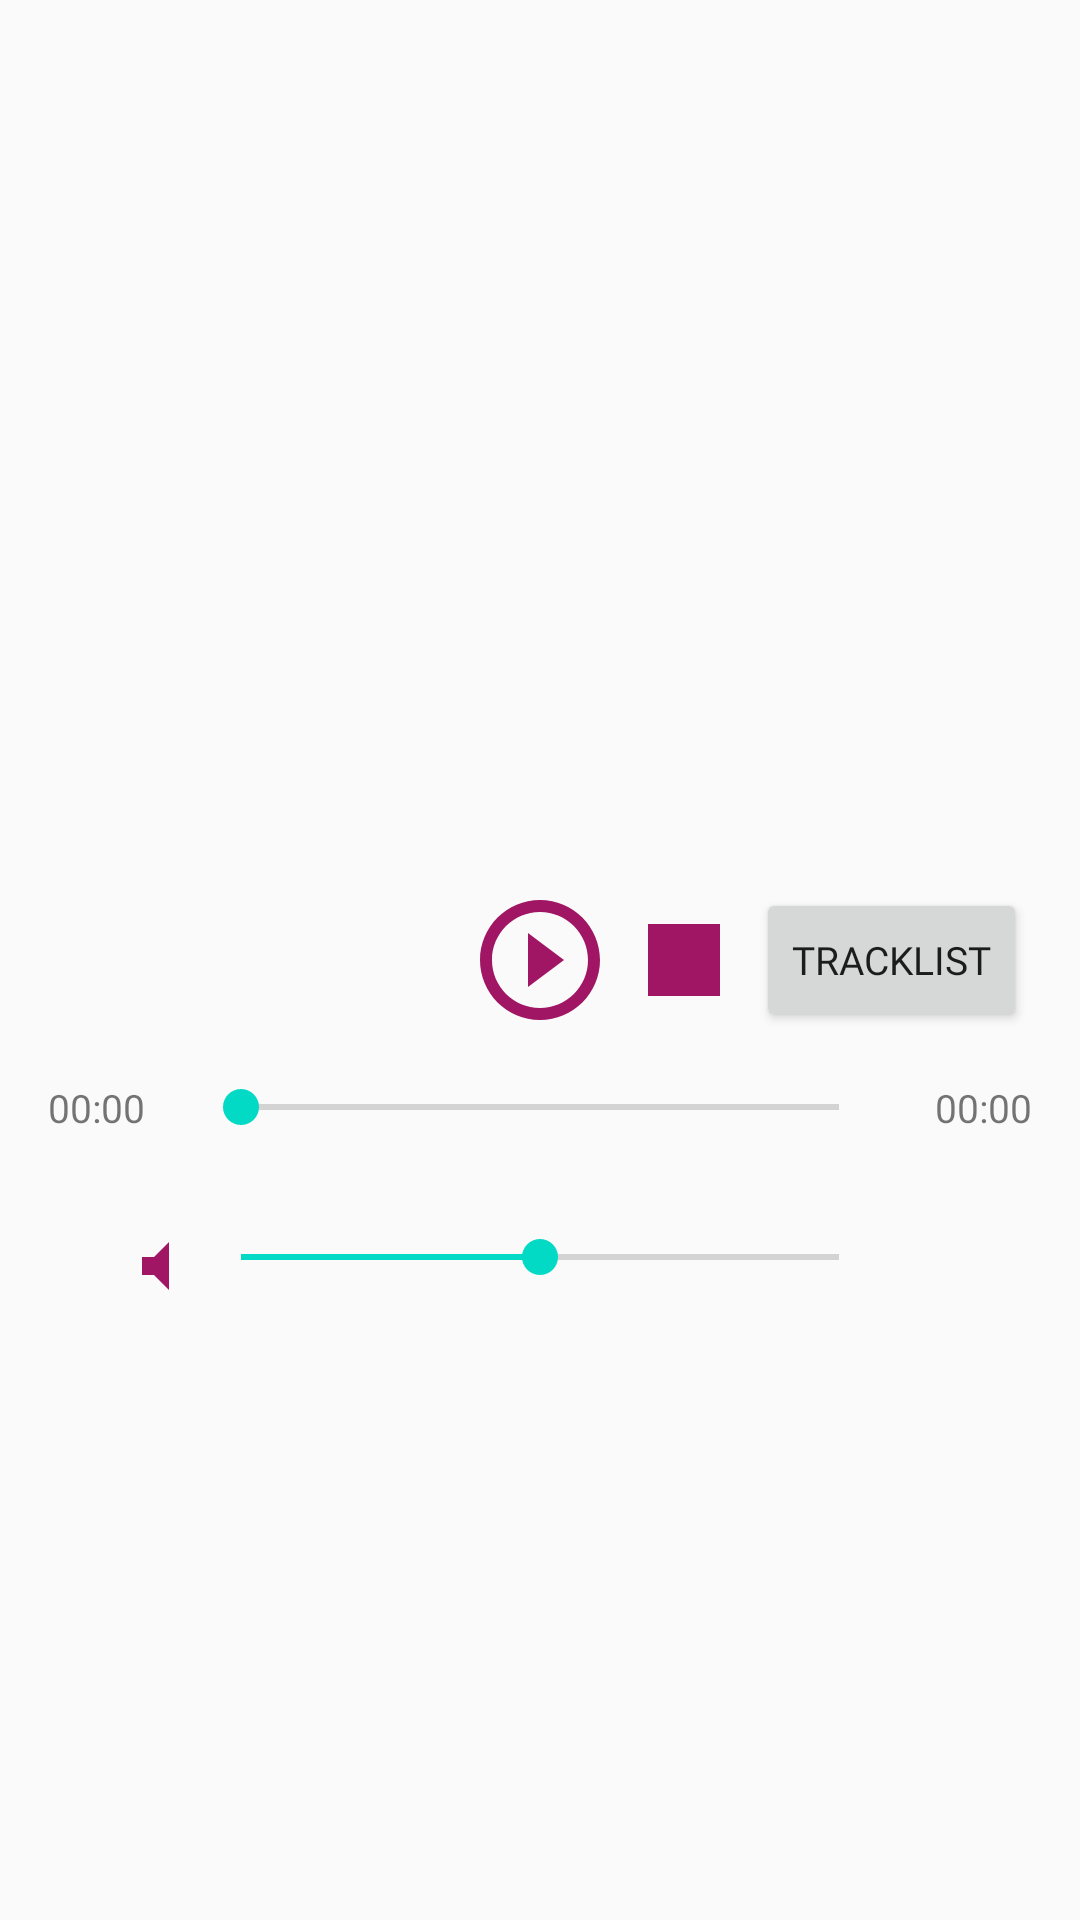

Point at icon controls on the screen. Image size 1080 × 1920, points as (x=x, y=y).
play circle: (x=540, y=960)
volume mute: (x=155, y=1266)
